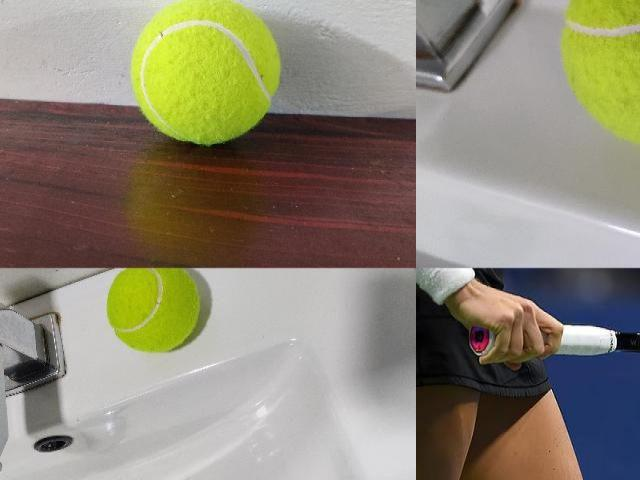tennis-ball: (129, 0, 281, 146), (556, 0, 639, 150), (105, 268, 201, 354)
